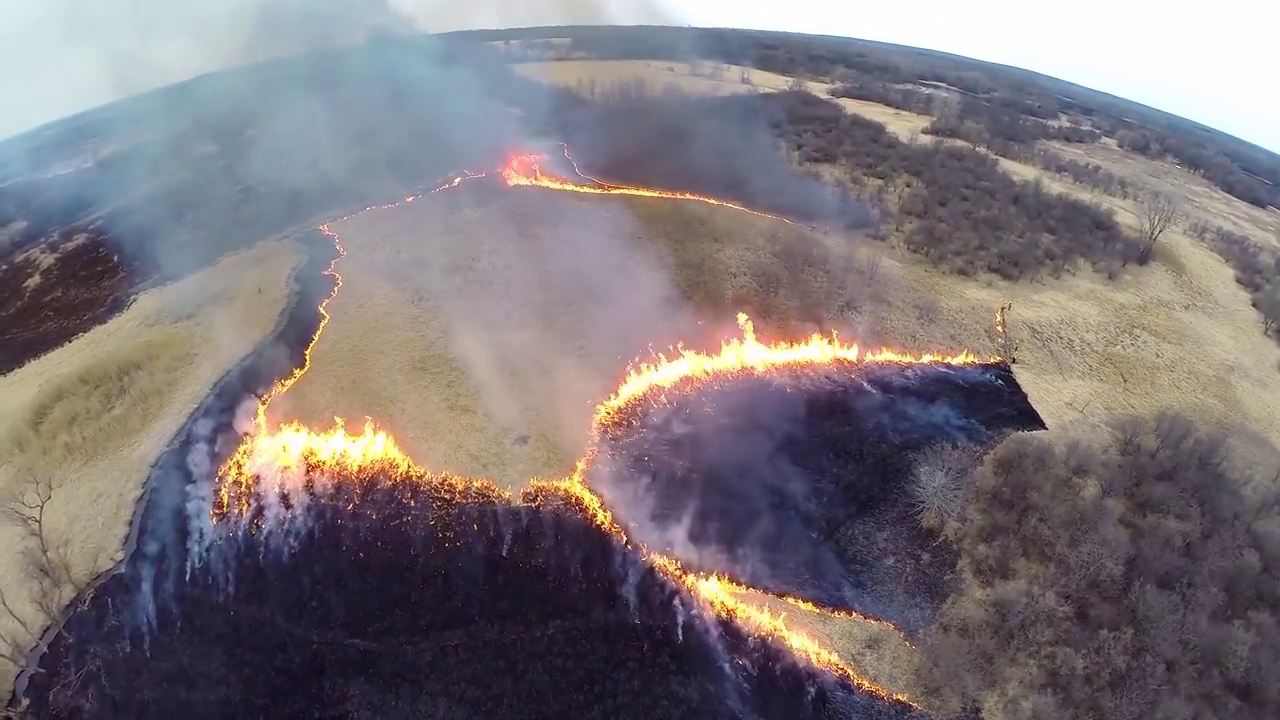forest_fire: (527, 449, 914, 706), (212, 223, 509, 516), (591, 313, 979, 442), (501, 156, 744, 210), (776, 595, 888, 625), (431, 175, 471, 191)
